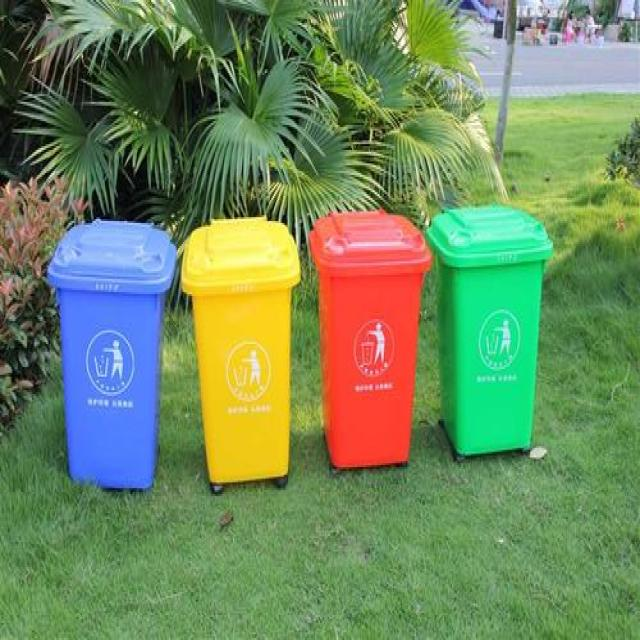garbage_bin: (46, 217, 174, 488), (180, 213, 300, 482), (307, 206, 430, 467), (424, 204, 552, 454)
